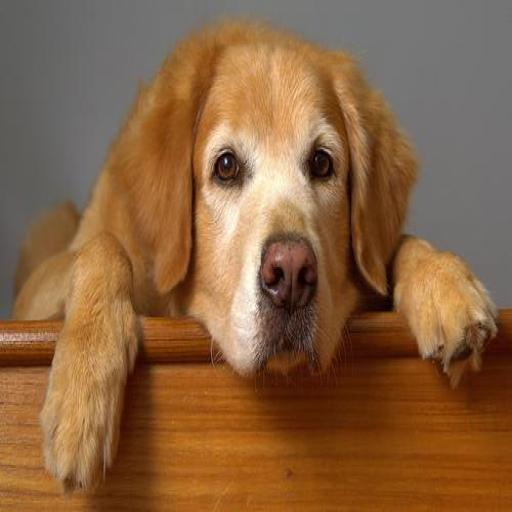dog_face: (128, 53, 410, 369)
